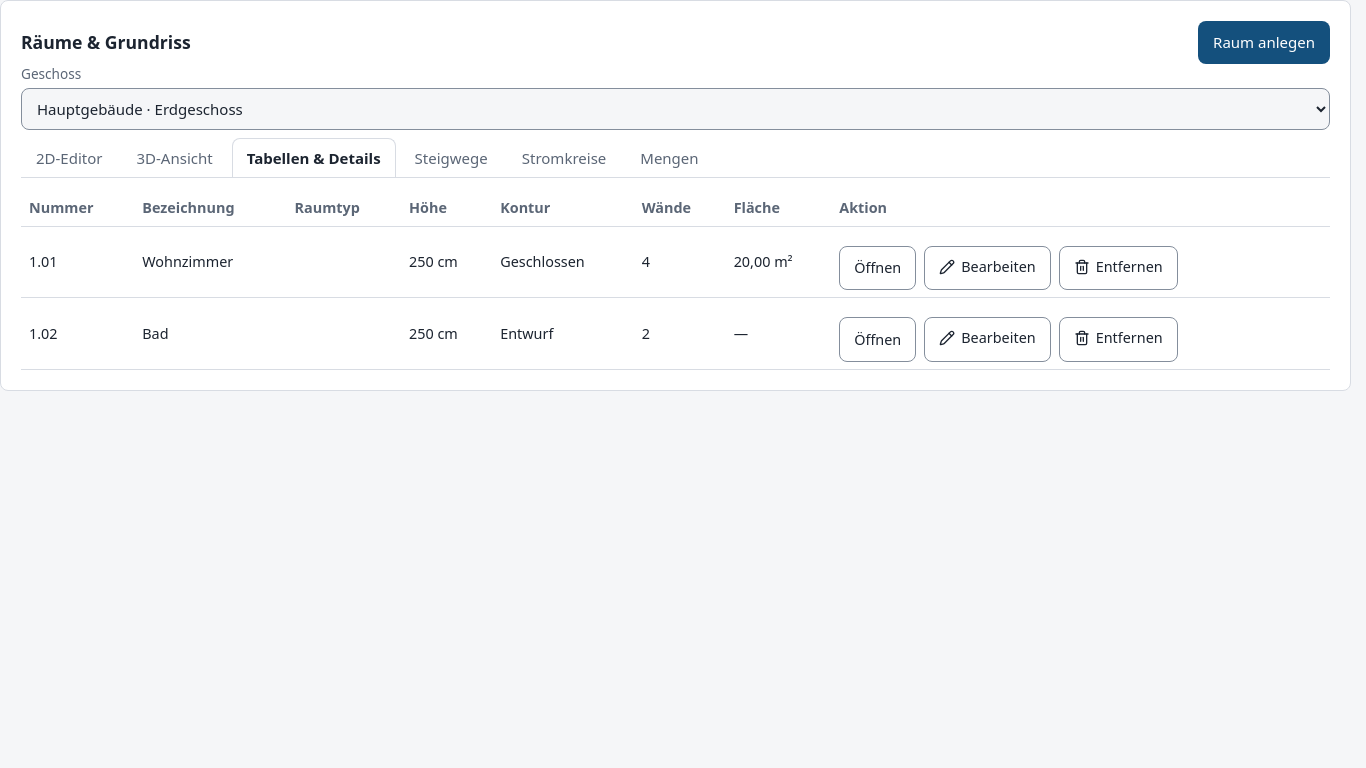
Test: Raum anlegen › uebernimmt beim Bearbeiten die bisherigen Werte
The image size is (1366, 768).
Check: the text "Wohnzimmer" is shown, box [134,226,287,298]
Step 1. Click the button with aria-label "Raum Wohnzimmer bearbeiten" → point(988, 268), box [924,246,1051,290]
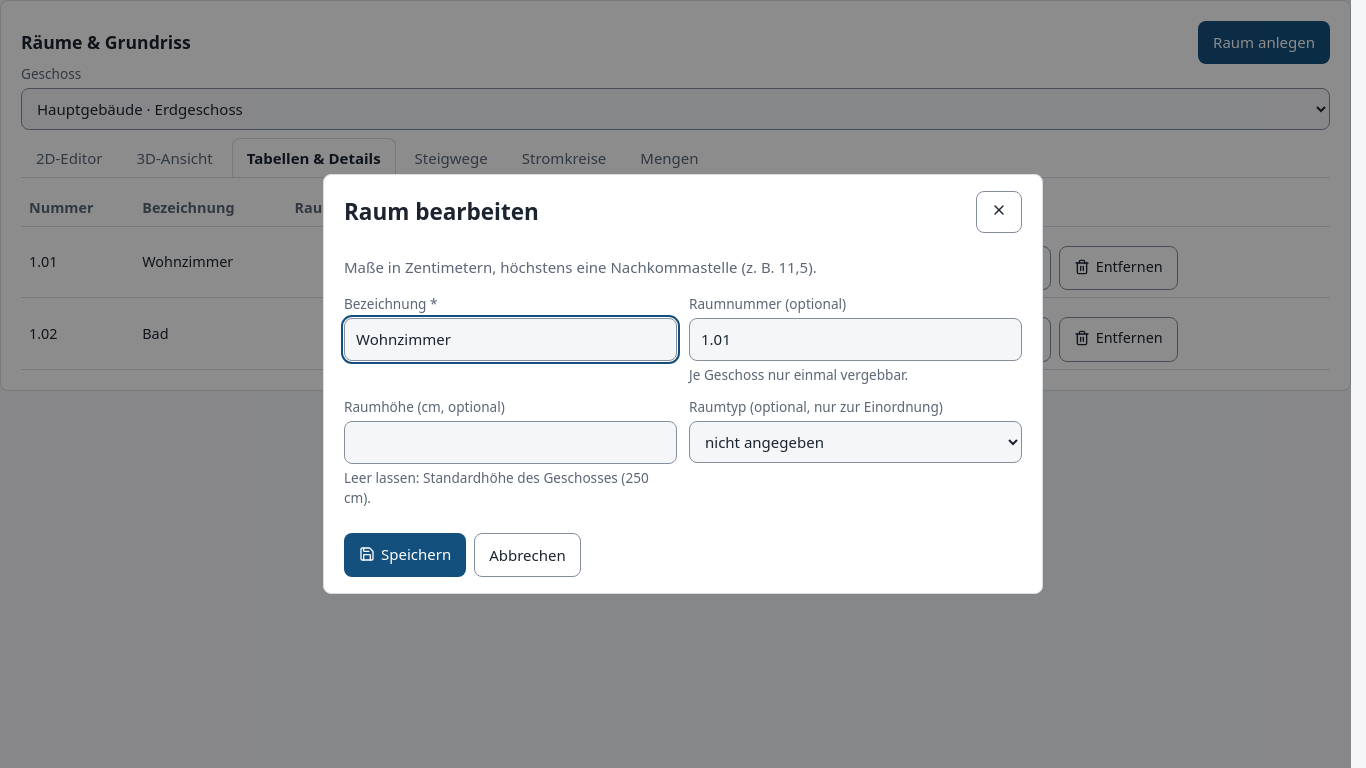
Check: the field labelled "Bezeichnung *" holds "Wohnzimmer", box [344,318,677,360]
Check: the field labelled "Raumnummer (optional)" holds "1.01", box [689,318,1022,360]
